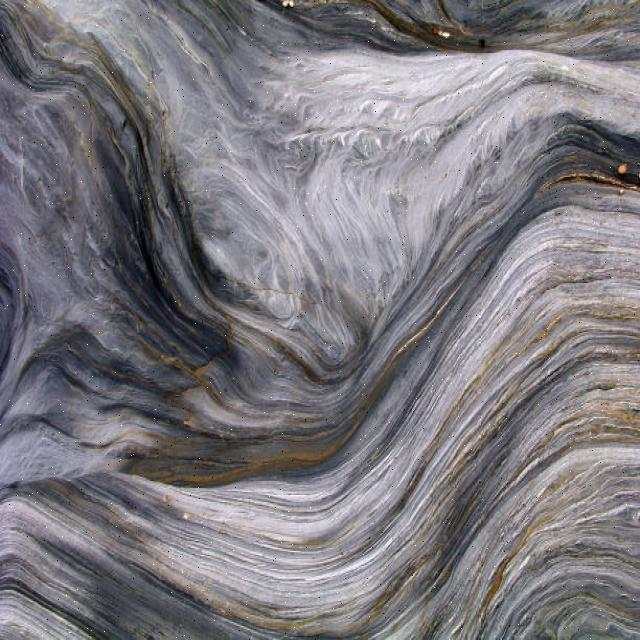Sedimentary: (1, 1, 638, 640)
